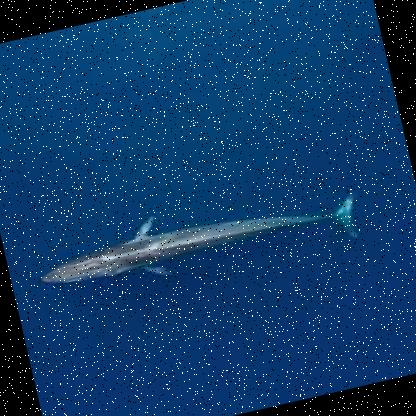blue_whale: (17, 140, 389, 347)
